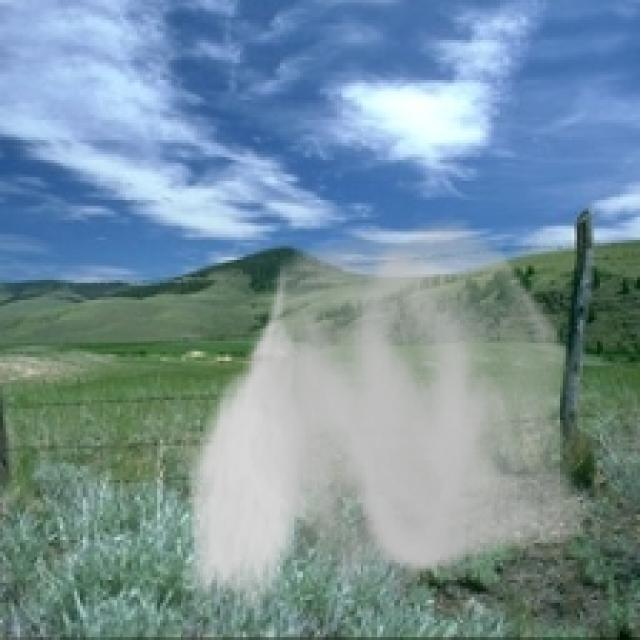Smoke: (180, 208, 589, 620)
